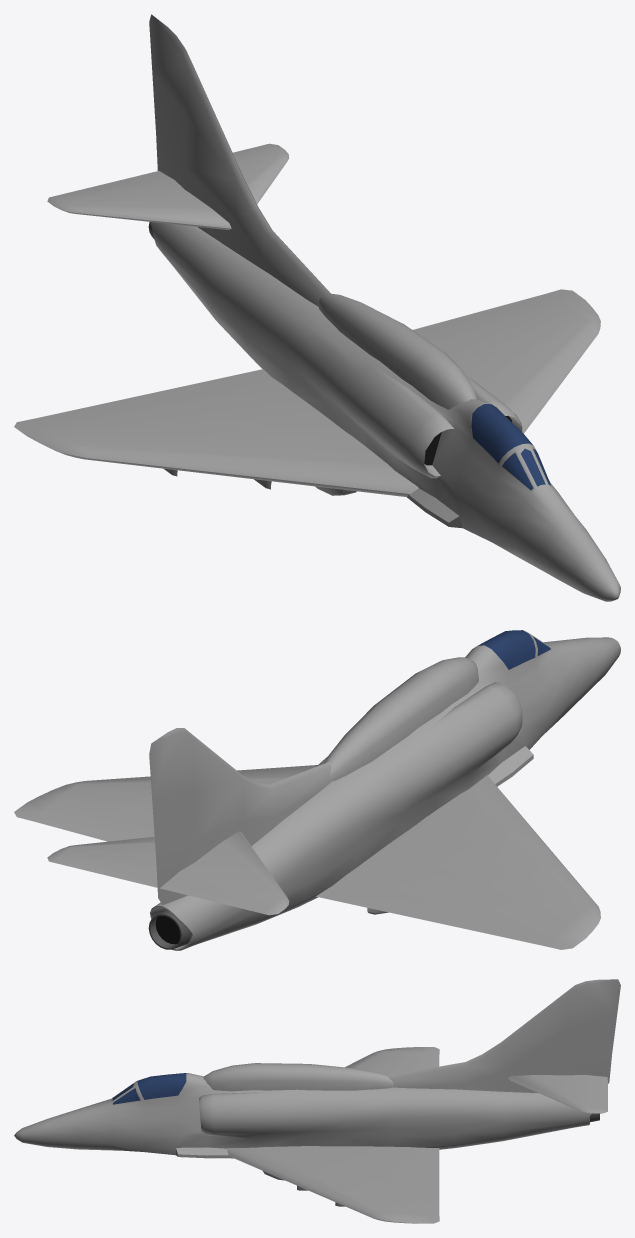
The model's file is A4M_SKYHAWK.glb.
3 renders of one model, top to bottom at view 1: azimuth 30°, elevation 25°; view 2: azimuth 150°, elevation 25°; view 3: azimuth 270°, elevation 25°, orthographic. The views are drawn at different scales.
Parts seen in each view (by area): view 1: a4m_skyhawk; view 2: a4m_skyhawk; view 3: a4m_skyhawk.
Part boxes in pixels (x1,y1,x2,y2): a4m_skyhawk: (14, 14, 620, 601); a4m_skyhawk: (14, 630, 620, 950); a4m_skyhawk: (14, 979, 620, 1223).
Size of the model in its own units: 8.95 by 4.17 by 13.
